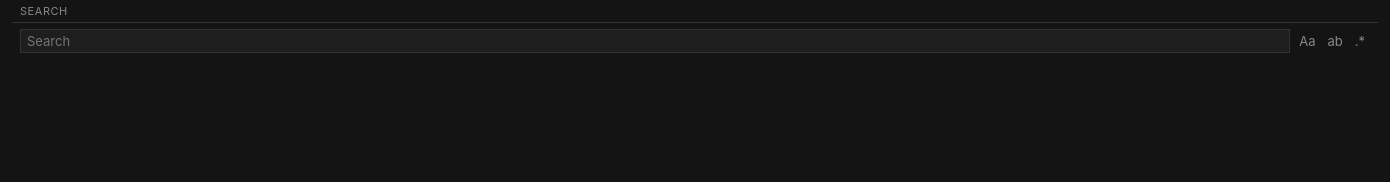
Test: SearchView › searches on Enter and displays the result tree
Type "foo" into the field named "検索".
click(655, 41); type("foo")  # box [20,29,1290,53]
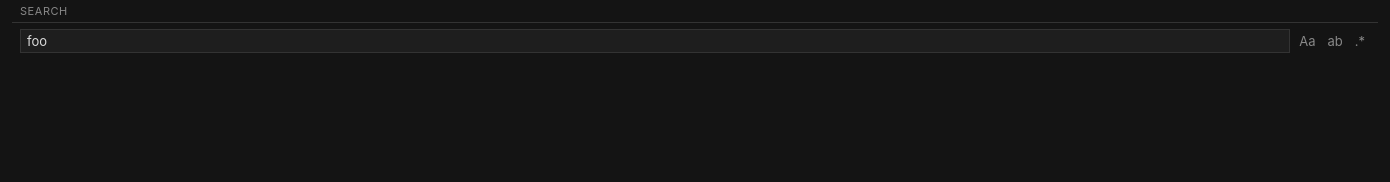
Press Enter in the field named "検索", box [20,29,1290,53]
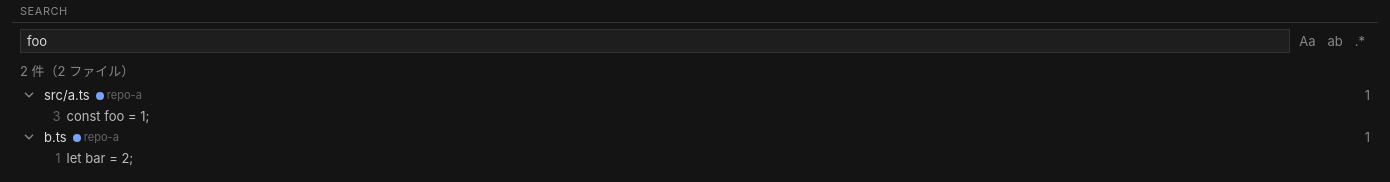
Result: the text "src/a.ts" is shown at [44,87,90,103]
Result: the text "const foo = 1;" is shown at [67,108,149,124]
